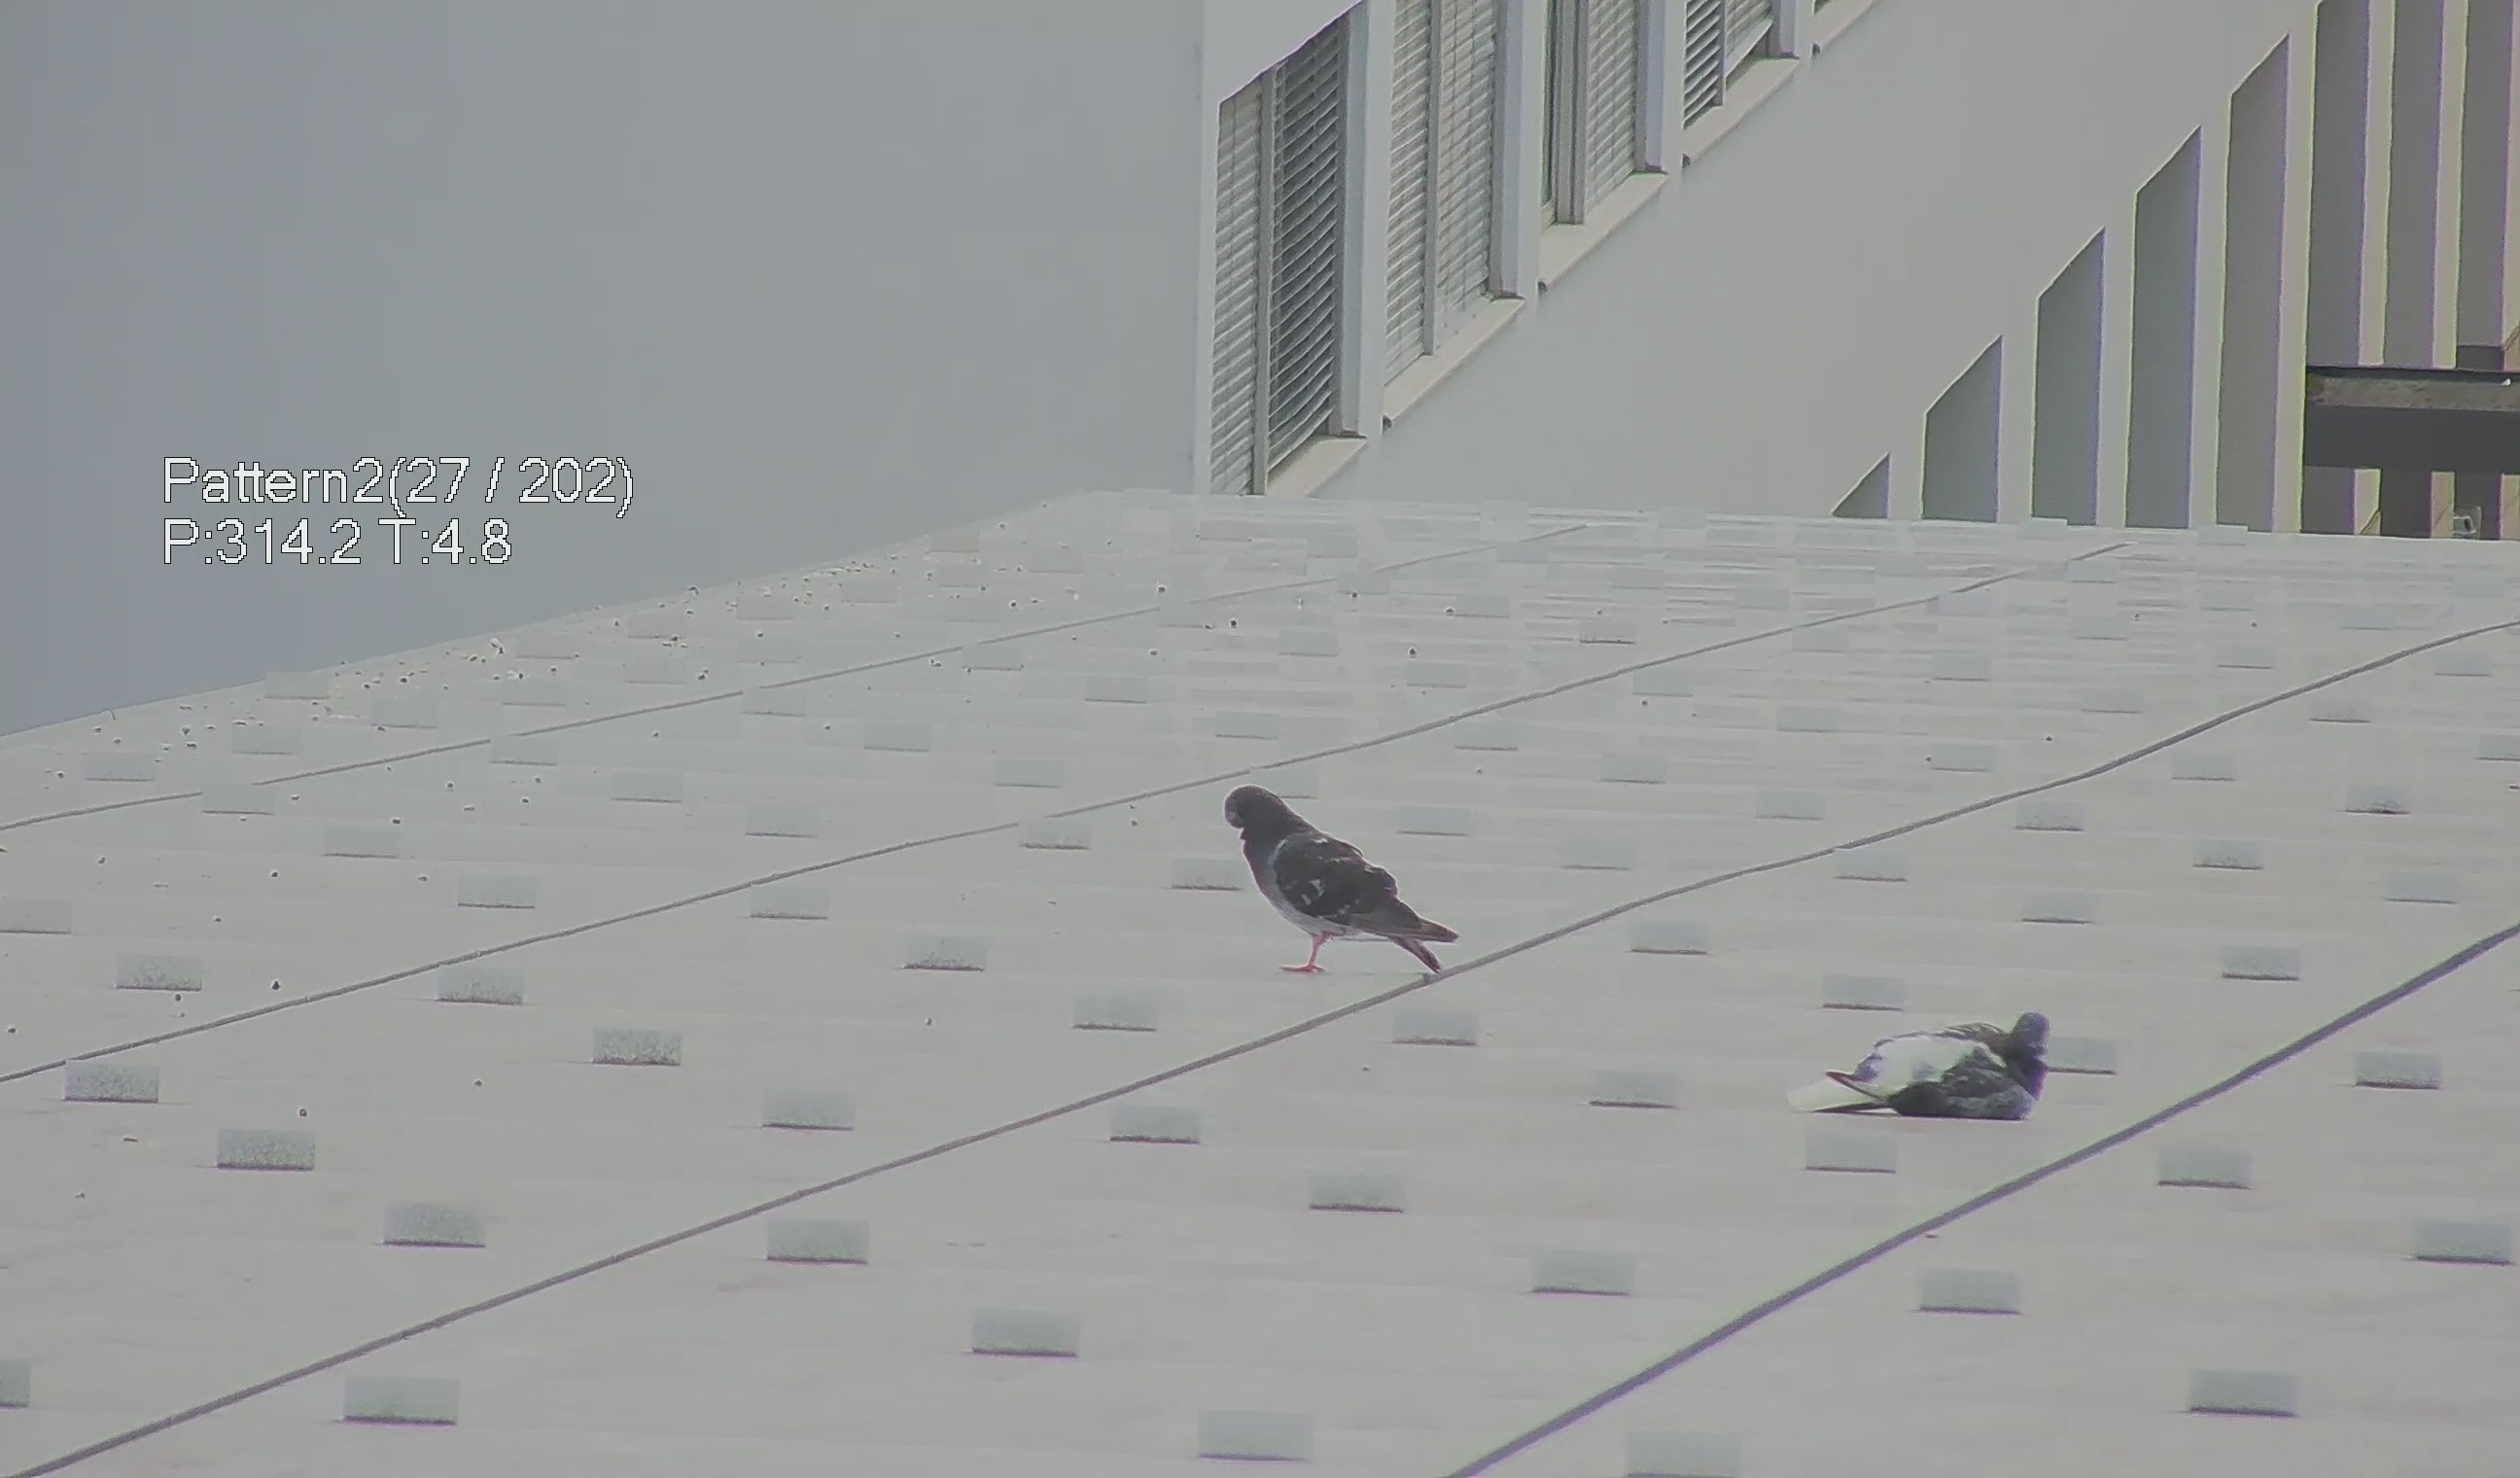Pigeon: (1210, 781, 1446, 994), (1778, 996, 2094, 1135)
